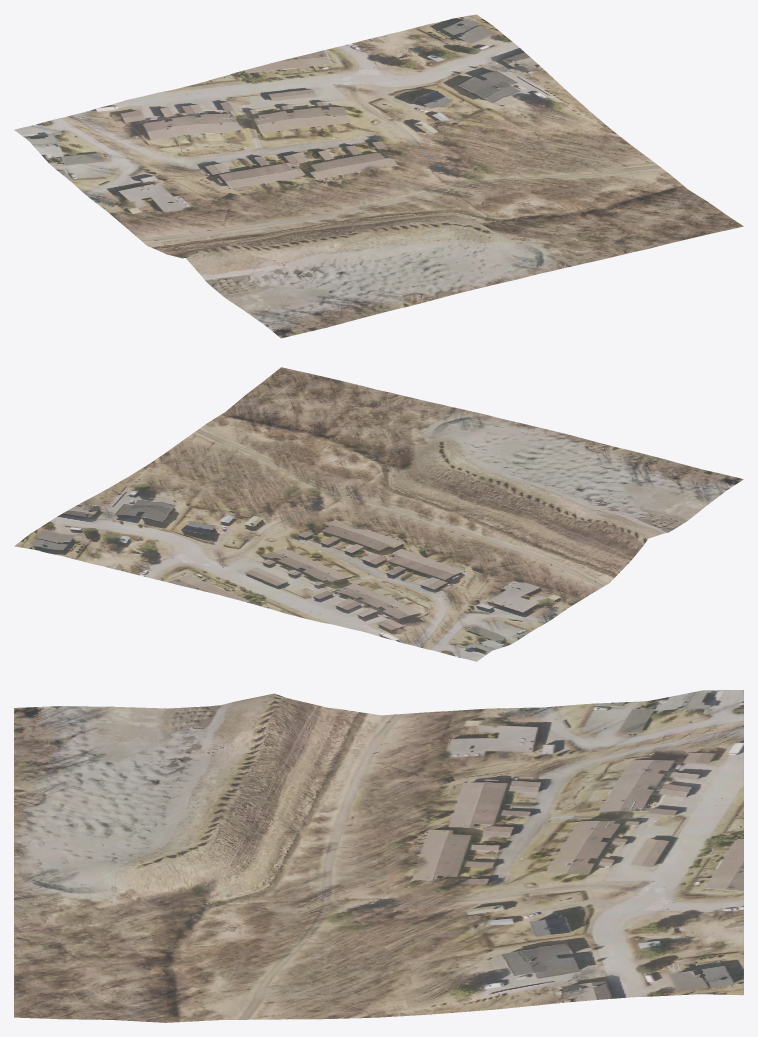
Rendered from CM_Terrain_24490868_6819999.fbx.
The picture shows the model from 3 angles, top to bottom: view 1: azimuth 30°, elevation 25°; view 2: azimuth 150°, elevation 25°; view 3: azimuth 270°, elevation 25°; orthographic projection. The views are drawn at different scales.
Visible parts, largest first — view 1: CM_Terrain_24490868_6819999_LOD0; view 2: CM_Terrain_24490868_6819999_LOD0; view 3: CM_Terrain_24490868_6819999_LOD0.
Boxes of the visible parts, x1,y1,x2,y2 form: CM_Terrain_24490868_6819999_LOD0: (14, 14, 743, 338); CM_Terrain_24490868_6819999_LOD0: (14, 367, 743, 661); CM_Terrain_24490868_6819999_LOD0: (14, 690, 743, 1022).
Size of what is drawn, in the model's own units: 205 by 9.75 by 205.
